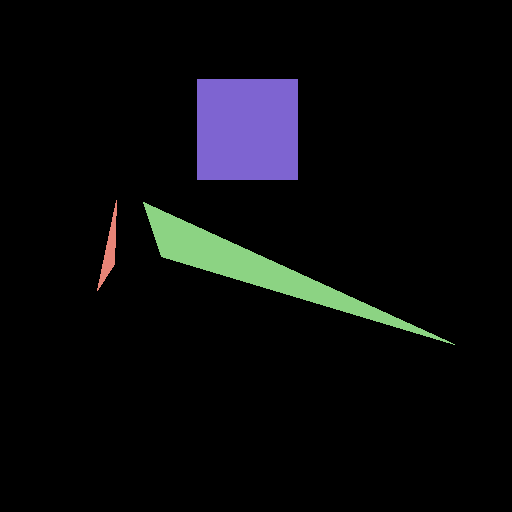square: (197, 79, 297, 179)
triangle: (143, 202, 454, 344), (97, 200, 116, 290)
